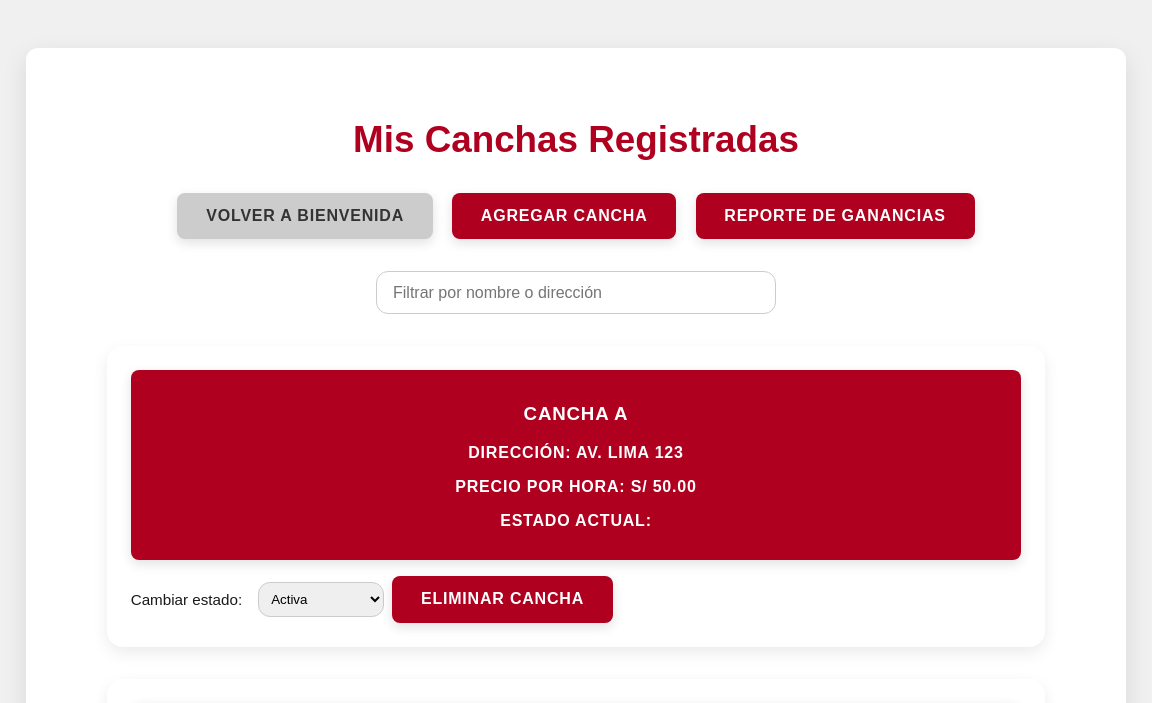
Test: filtra correctamente por nombre o dirección
Expected: the heading "Cancha A" is shown, [524, 403, 628, 424]
Step 1. Type "Sol" into the field with placeholder "Filtrar por nombre o dirección" → (576, 292), box [376, 271, 776, 314]
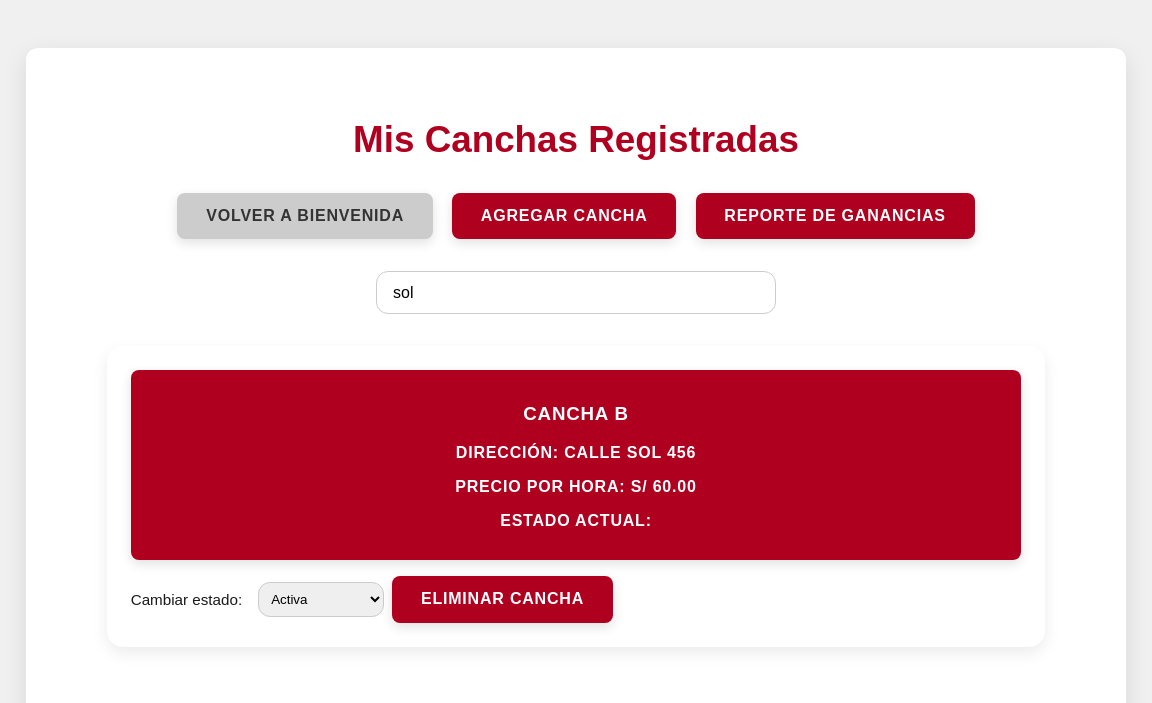
Expected: the heading "Cancha B" is shown, [523, 403, 629, 424]
Expected: the button "Cancha A" is gone
